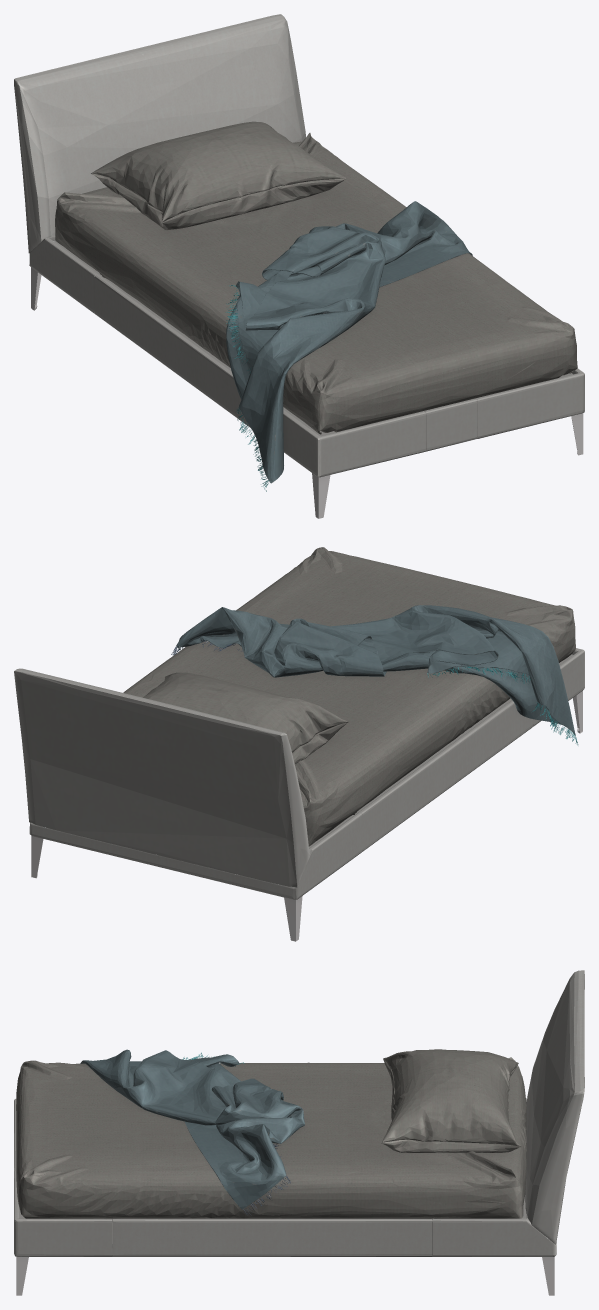
The picture shows the model from 3 angles, top to bottom: view 1: azimuth 30°, elevation 25°; view 2: azimuth 150°, elevation 25°; view 3: azimuth 270°, elevation 25°; orthographic projection. The views are drawn at different scales.
Visible parts, largest first — view 1: Node; view 2: Node; view 3: Node.
Boxes of the visible parts, x1,y1,x2,y2 form: Node: (14, 14, 584, 518); Node: (14, 547, 584, 941); Node: (14, 970, 584, 1295).
Size of the model in its own units: 1.26 by 0.8937 by 2.26.
Materials: 1 (1 with a texture image).
